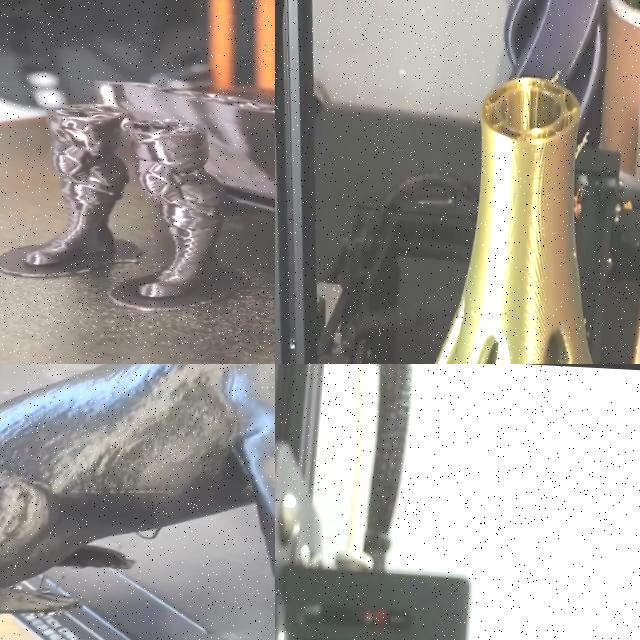spaghetti: (574, 126, 592, 166), (550, 63, 562, 82)
